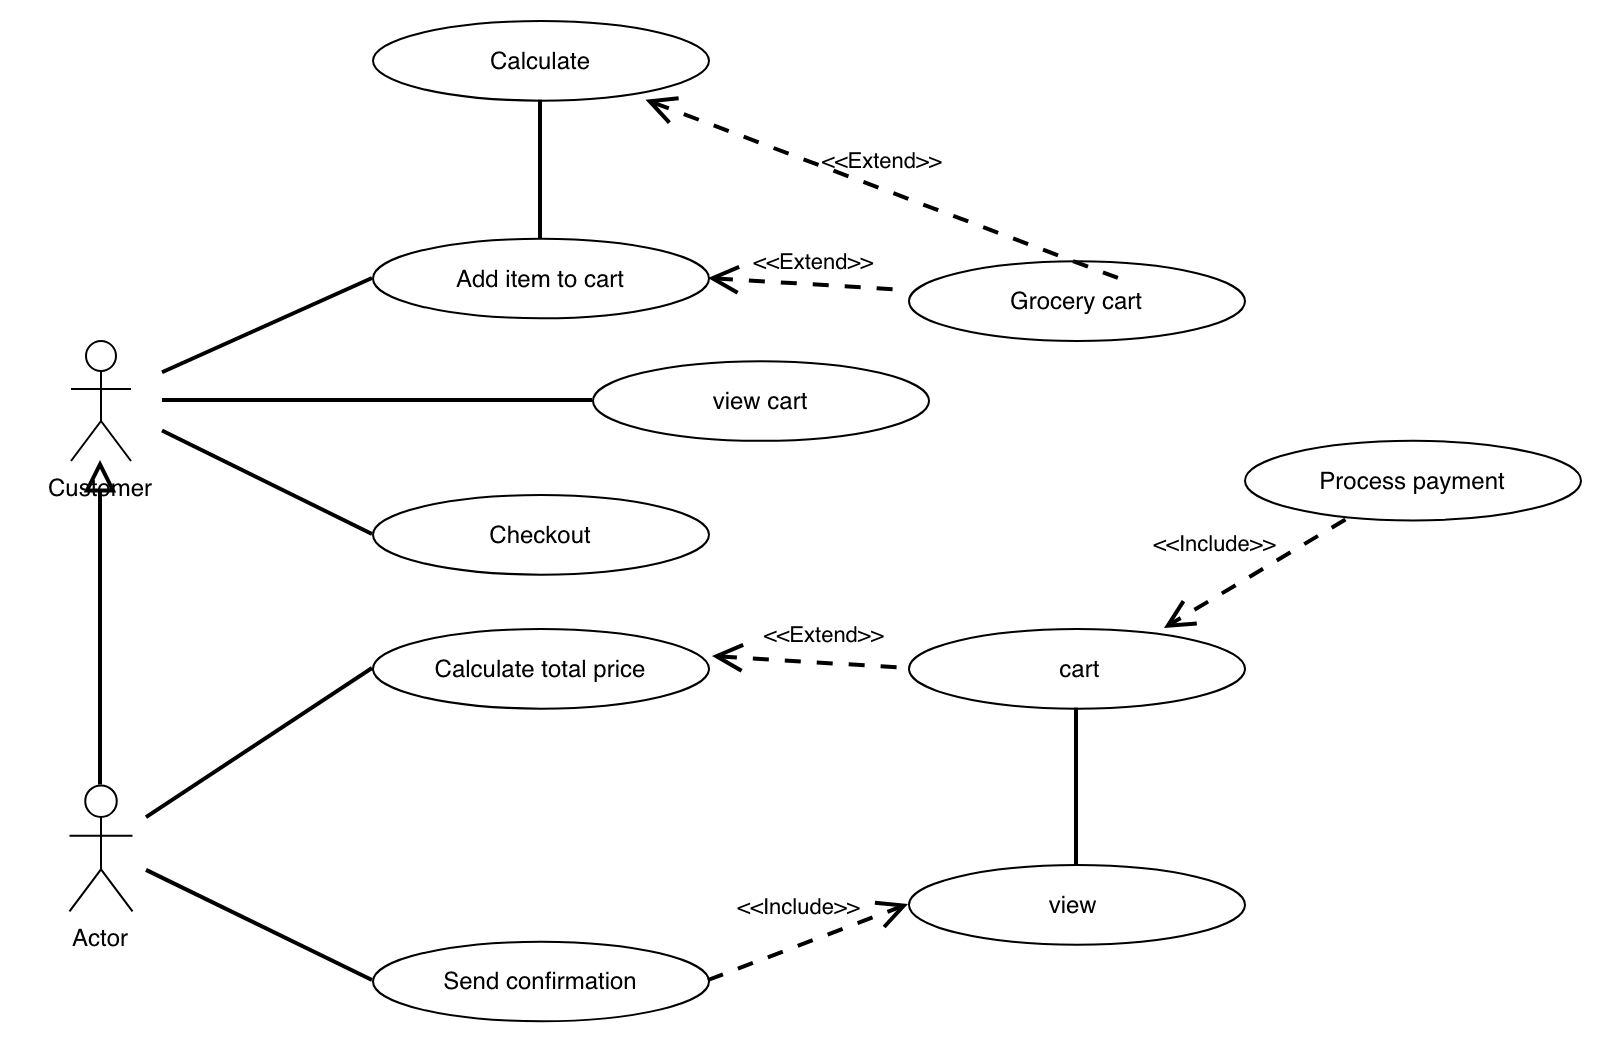actor: (62, 334, 135, 471), (64, 784, 141, 914)
association: (640, 93, 1118, 279), (144, 666, 371, 821), (144, 866, 371, 983), (160, 424, 373, 538), (1165, 518, 1348, 632), (164, 274, 371, 374), (711, 893, 908, 991), (160, 380, 591, 418), (82, 459, 117, 781), (712, 636, 903, 689), (711, 256, 900, 306), (1049, 709, 1112, 861), (518, 99, 557, 238)
text: (438, 959, 651, 1004), (428, 645, 659, 686), (447, 259, 639, 297), (1000, 280, 1149, 324), (1315, 466, 1516, 497), (697, 384, 826, 426), (727, 884, 862, 922), (481, 515, 608, 555), (476, 43, 600, 80), (1144, 521, 1280, 555), (761, 618, 887, 651), (744, 245, 878, 274), (44, 471, 159, 505), (1031, 885, 1114, 929), (819, 149, 950, 175), (1044, 649, 1114, 690), (59, 919, 141, 954)
use_case: (906, 256, 1247, 347), (370, 17, 714, 106), (369, 234, 716, 323), (588, 356, 930, 446), (1243, 437, 1584, 525), (370, 938, 714, 1026), (369, 626, 714, 712), (906, 861, 1249, 948), (906, 626, 1247, 712), (371, 492, 710, 579)
